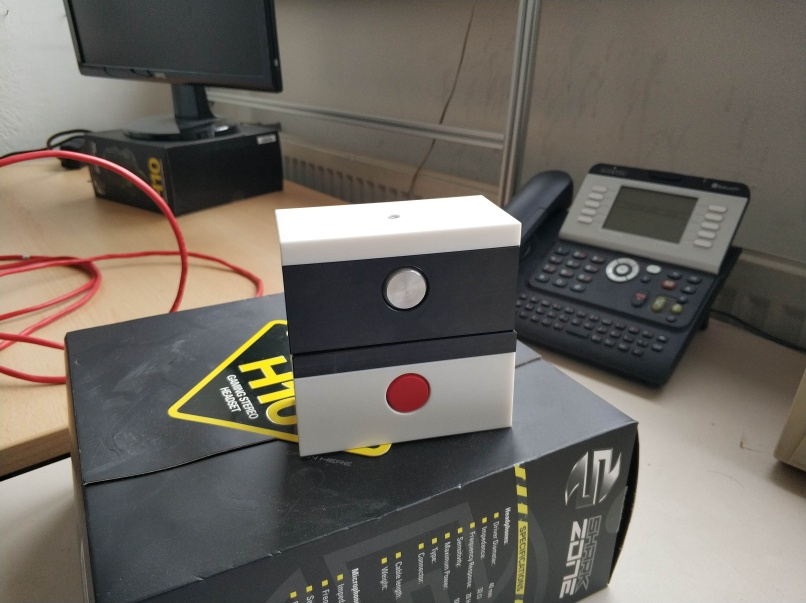black+white+red: (290, 326, 518, 459)
white+black+silver: (274, 193, 522, 352)
